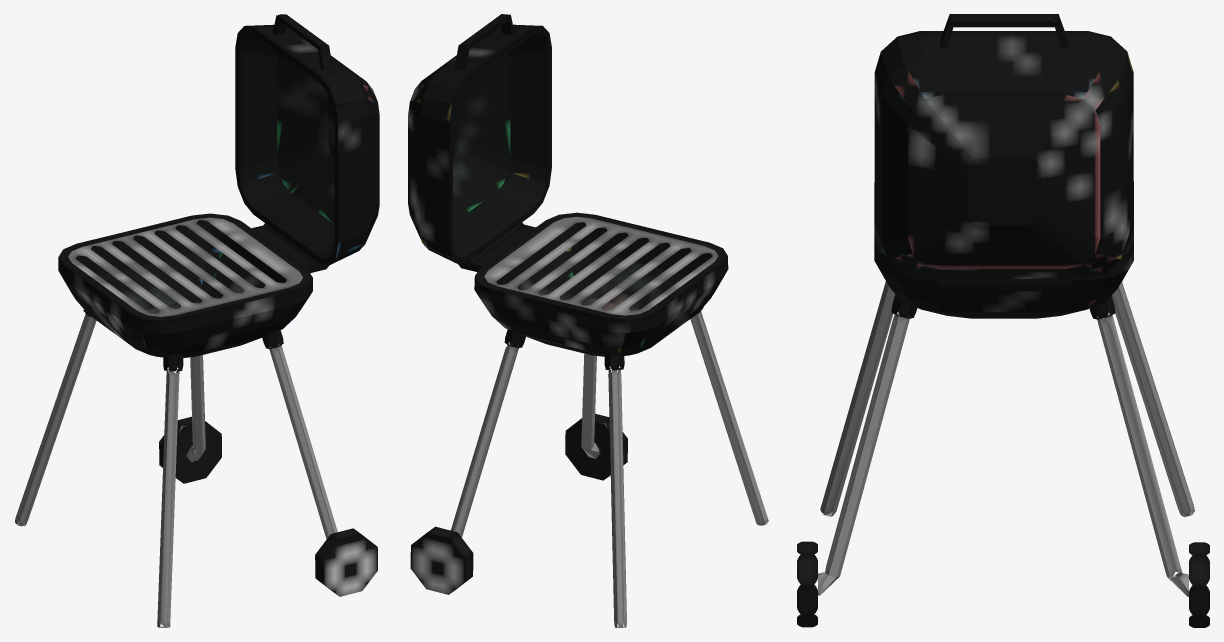
The model's file is Grill.fbx.
3 views of the same model, side by side, from view 1: azimuth 30°, elevation 25°; view 2: azimuth 150°, elevation 25°; view 3: azimuth 270°, elevation 25° (orthographic). The views are drawn at different scales.
Parts seen in each view (by area): view 1: Grill, Legs, Grate; view 2: Grill, Legs, Grate; view 3: Grill, Legs.
Part boxes in pixels (x1,y1,x2,y2): Grill: (58, 14, 379, 357); Legs: (15, 278, 377, 627); Grate: (68, 217, 302, 316); Grill: (408, 14, 728, 356); Legs: (410, 276, 768, 627); Grate: (484, 216, 717, 315); Grill: (874, 14, 1133, 318); Legs: (797, 281, 1209, 627).
Bounding box in the file's own units: 79.35 × 141 × 83.95.
Materials: 1 (1 with a texture image).
